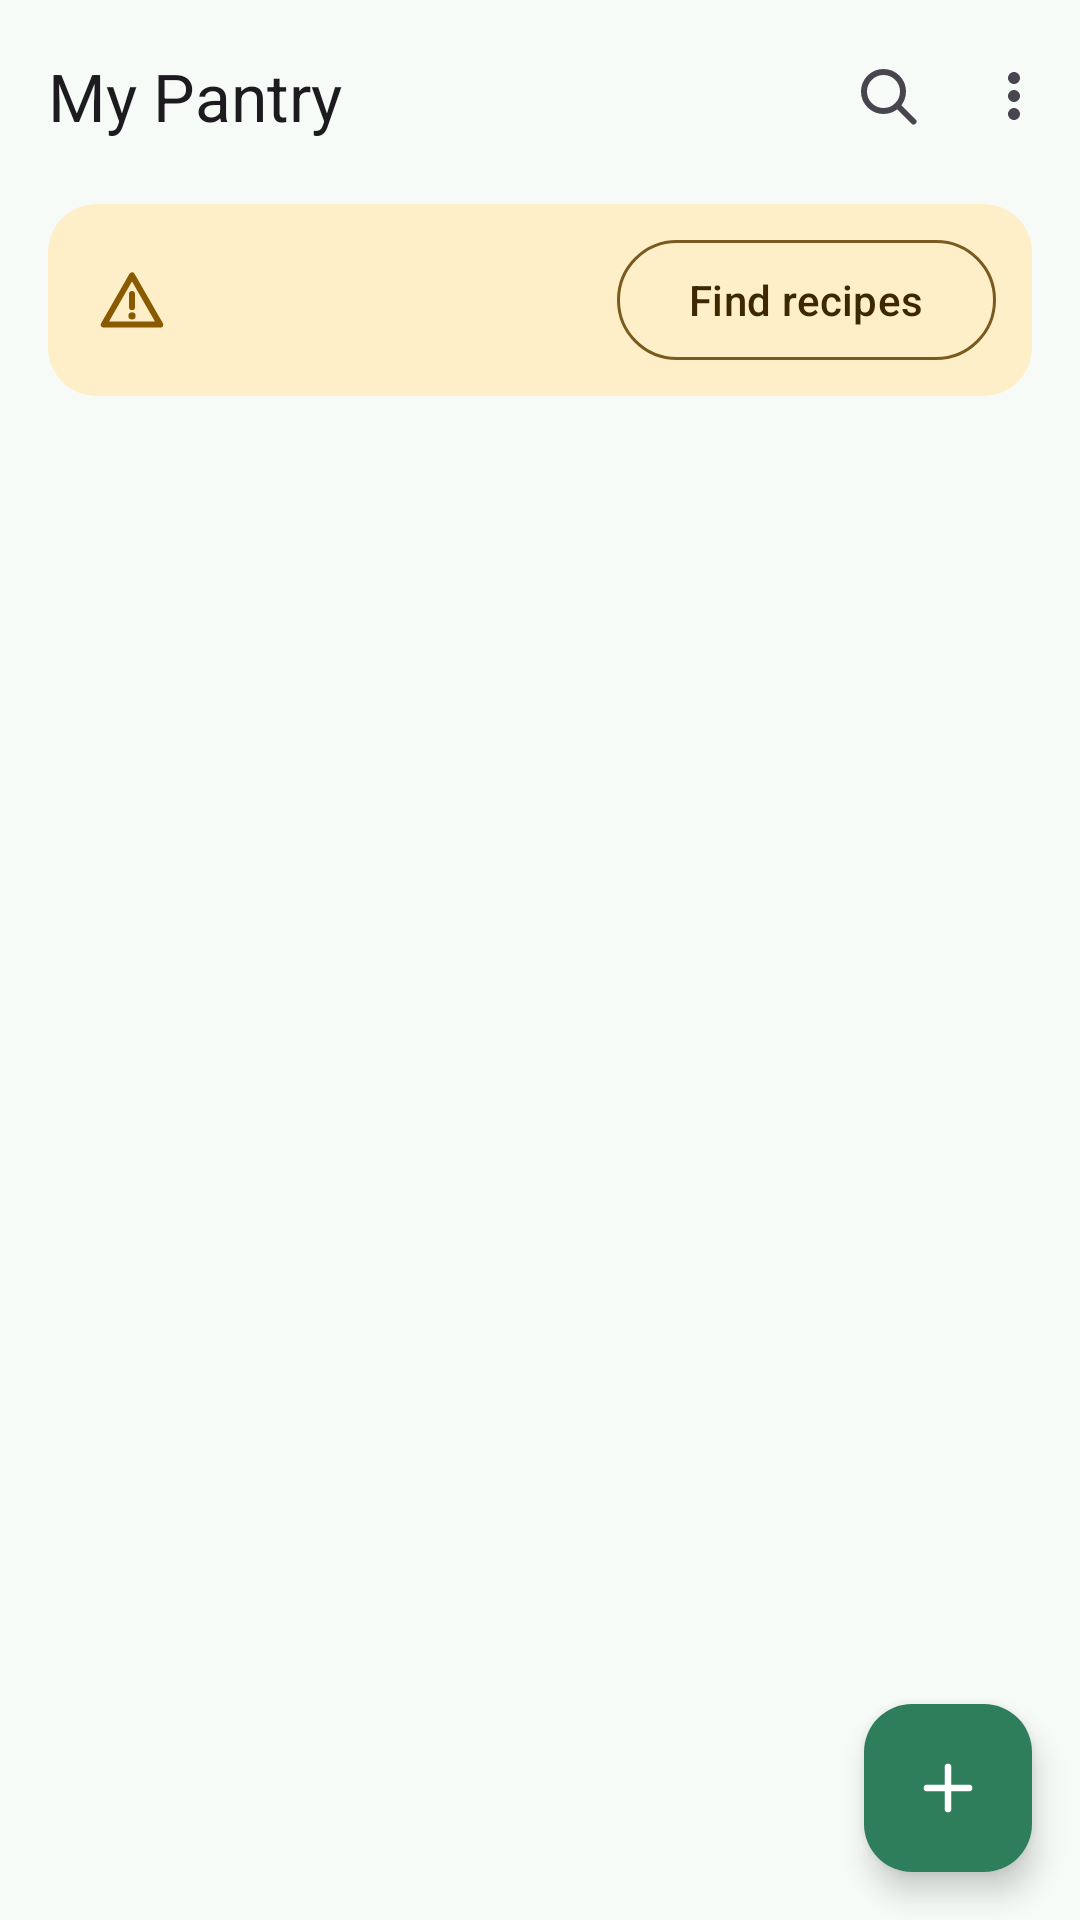

Screen size 1080*1920. Icon name, then its box in pixels as (x1, y1, x2, y2):
Add item: (864, 1704, 1032, 1872)
warning: (100, 272, 164, 328)
